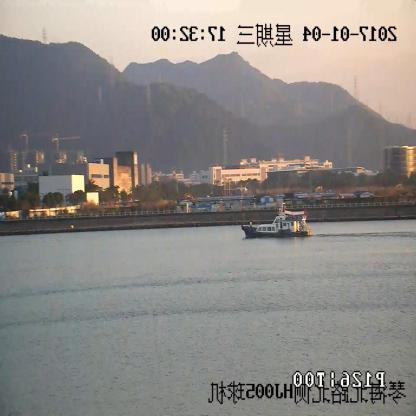Fishing Boat: (242, 209, 310, 240)
